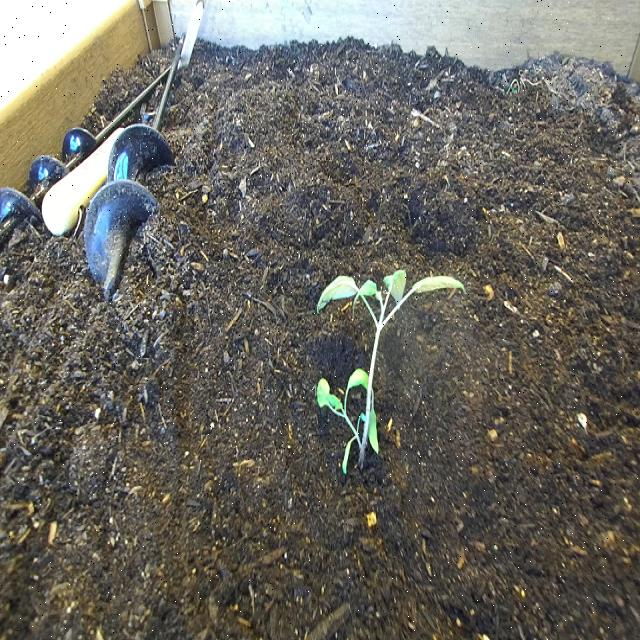Healthy: (310, 260, 468, 482)
